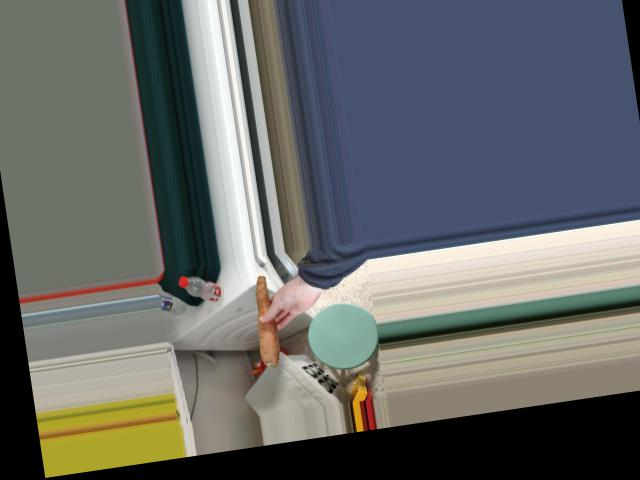sweet_potato: (247, 272, 289, 366)
